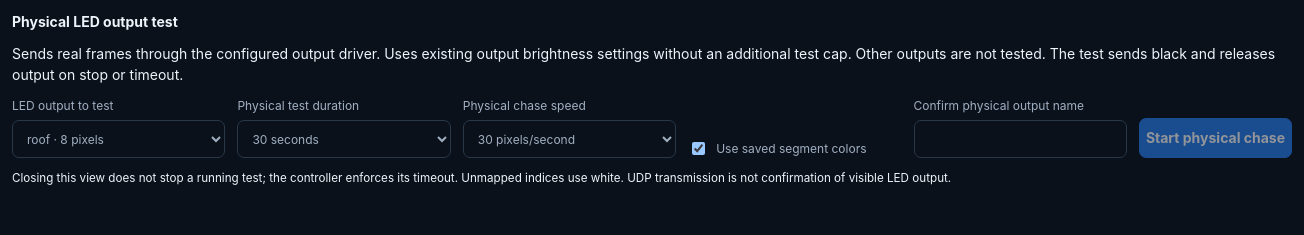
Test: physical errors remain visible instead of showing successful output
Expected: the dropdown labelled "LED output to test" shows "roof · 8 pixels", [12, 120, 225, 158]
Type "roof" into the field labelled "Confirm physical output name" at (1020, 139), box [914, 120, 1127, 158]
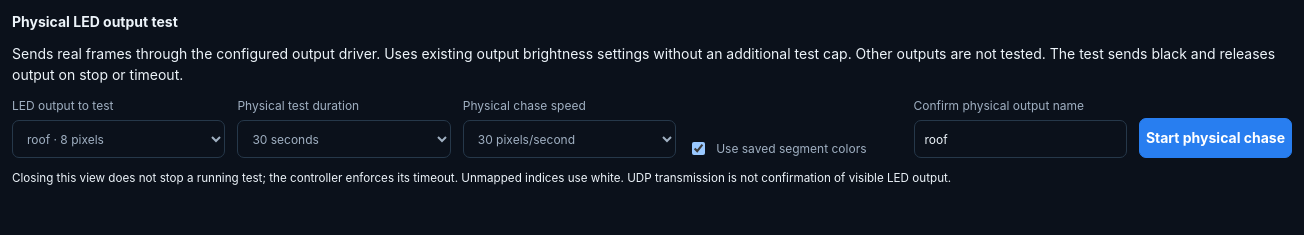
Click the button "Start physical chase" at (1215, 138), box [1139, 118, 1292, 158]
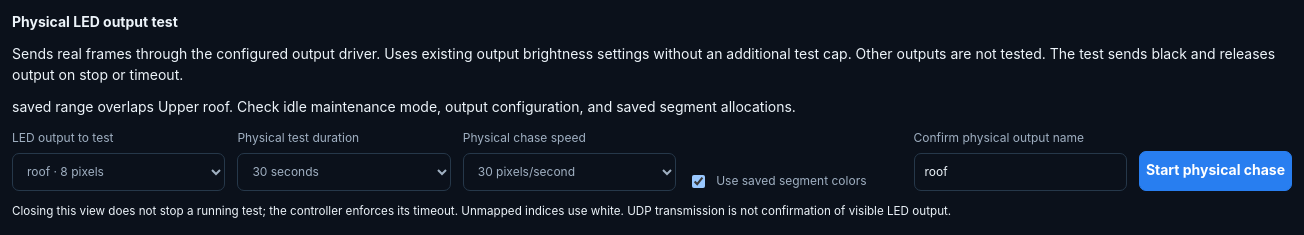
Expected: the message shows "saved range overlaps Upper roof", [12, 98, 796, 115]
